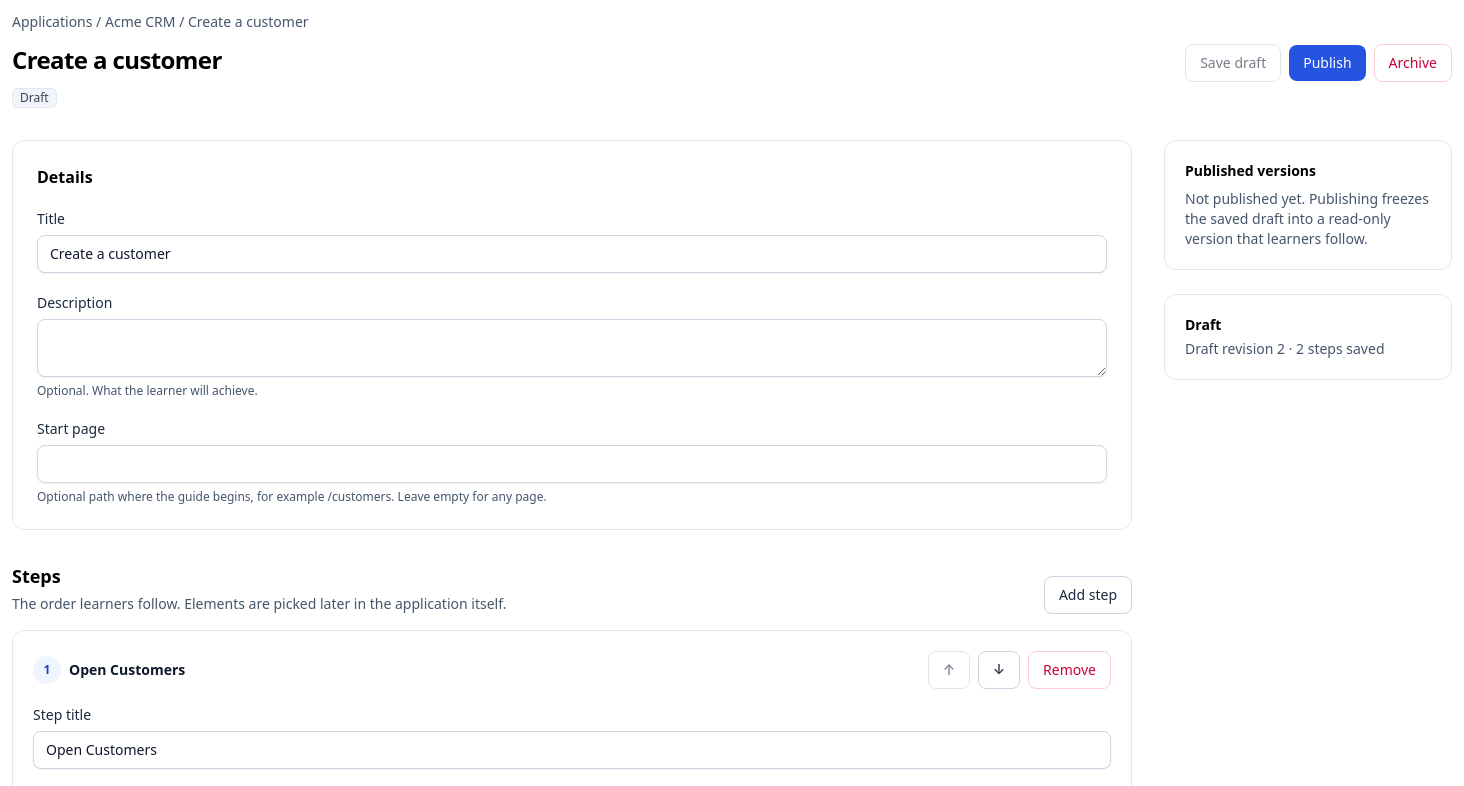
Test case: GuideEditorPage › shows publishing errors from the API
The image size is (1464, 786).
Click the button with test id "publish": (1327, 63) [1289,45,1366,81]
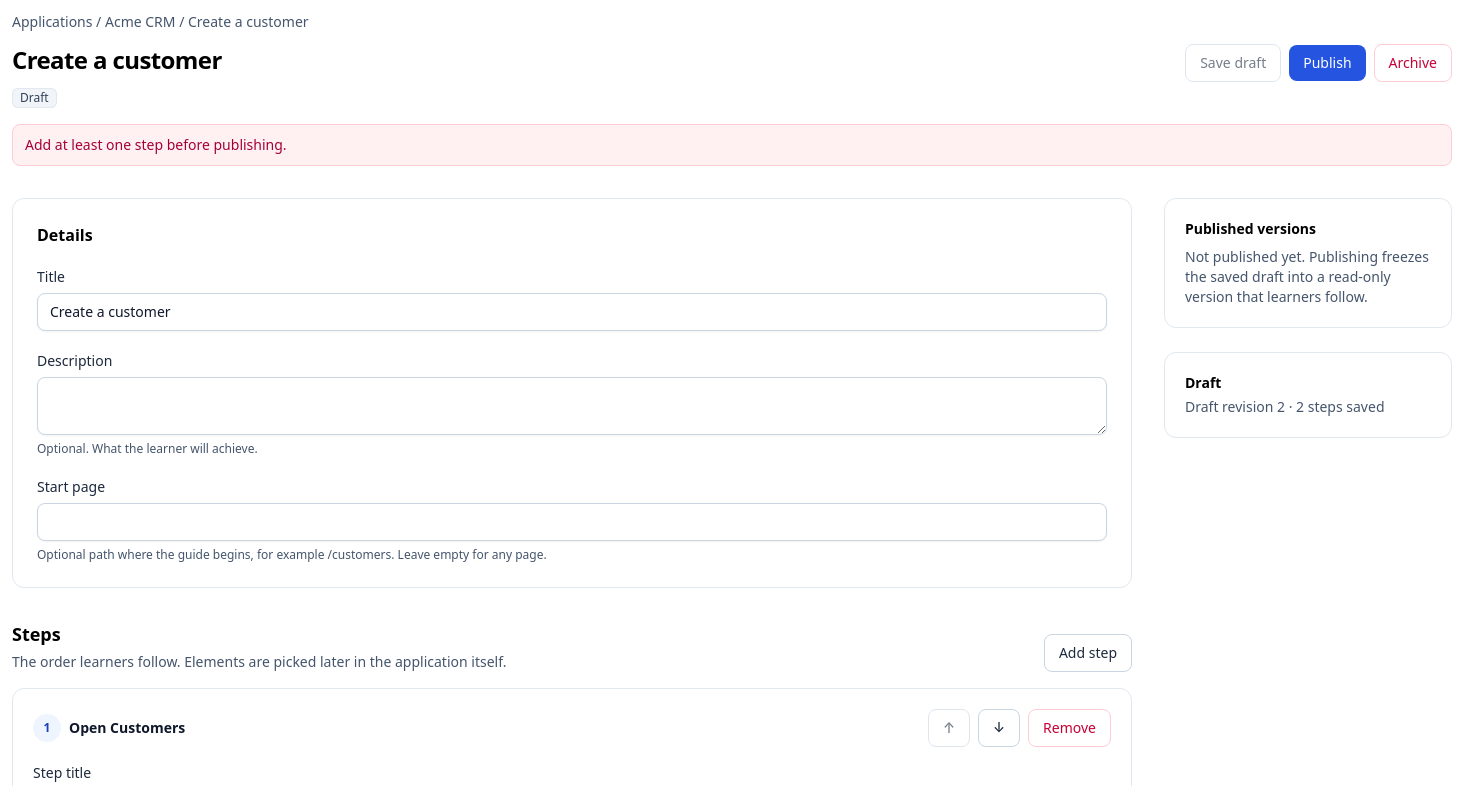
expect the message "Add at least one step before publishing." is shown: met, box [12,124,1452,166]
